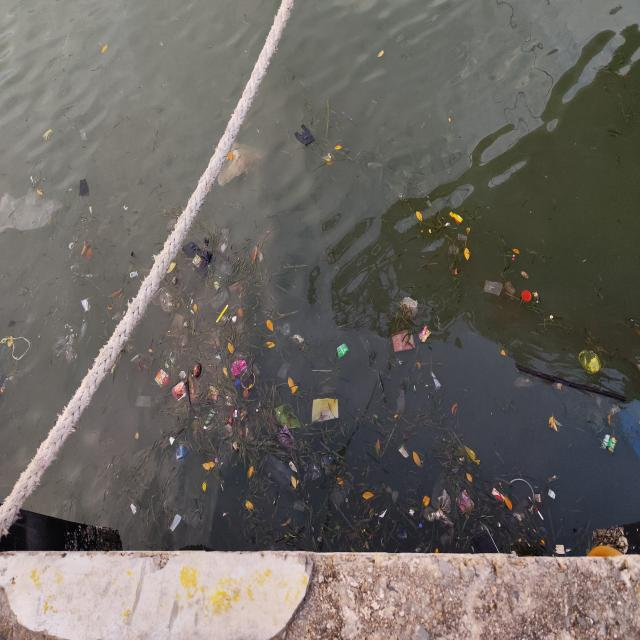Botol Plastik: (236, 381, 242, 388), (420, 522, 424, 530)
Bungkus Makanan: (600, 433, 618, 455), (154, 370, 172, 389), (491, 488, 507, 504), (449, 211, 465, 226), (207, 386, 220, 404), (419, 326, 432, 344), (337, 344, 351, 360), (81, 298, 92, 315), (399, 446, 411, 461), (192, 254, 203, 269)
Bungkus Minuman: (449, 243, 462, 258), (506, 280, 518, 296), (610, 403, 621, 417), (458, 233, 470, 244), (131, 271, 140, 279)
Kantong Plastik: (184, 242, 215, 276), (578, 348, 603, 375), (391, 329, 417, 354), (155, 287, 179, 314), (396, 297, 421, 319), (295, 124, 316, 150), (484, 279, 505, 297), (79, 180, 92, 200)
